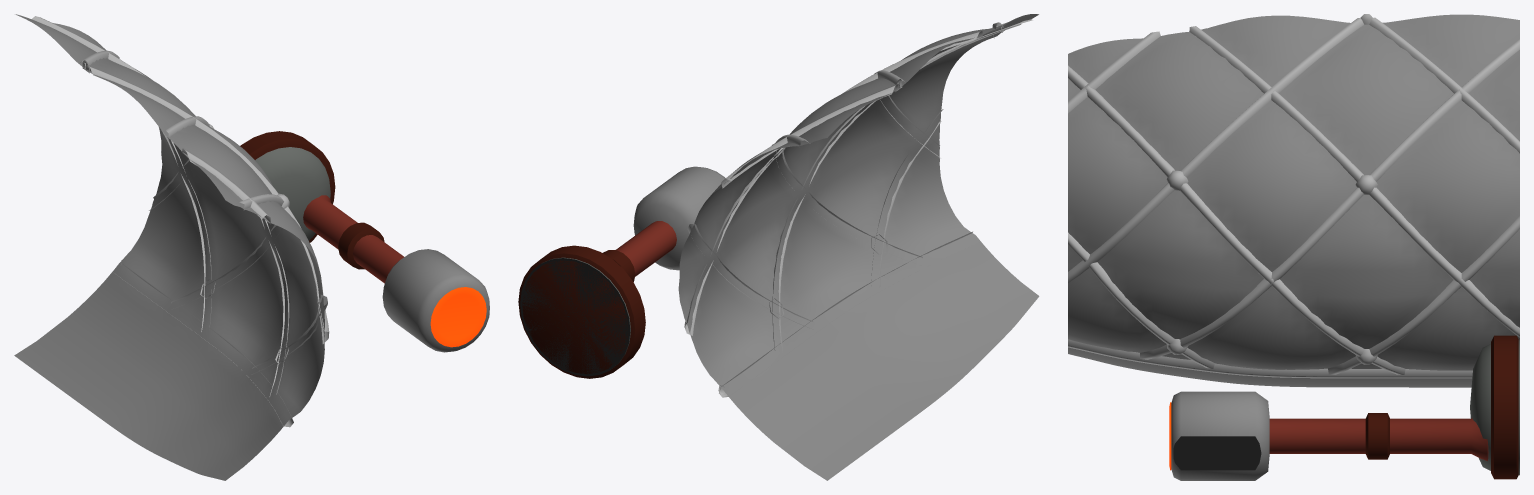
The model's file is zeppelin_121.glb.
3 views of the same model, side by side, from view 1: azimuth 30°, elevation 25°; view 2: azimuth 150°, elevation 25°; view 3: azimuth 270°, elevation 25° (orthographic). The views are drawn at different scales.
Visible parts, largest first — view 1: envelope.001, net_ropes.001, gun_muzzle_r.001, gun_body_r.001, gun_barrel_r.001, gun_fire_ring_r.001, gun_band2_r.001, gun_barrel_ring_r.001; view 2: envelope.001, gun_band2_r.001, gun_body_r.001, net_ropes.001, gun_muzzle_r.001, gun_barrel_r.001; view 3: envelope.001, net_ropes.001, gun_muzzle_r.001, gun_barrel_r.001, gun_band2_r.001, net_load.001, gun_body_r.001, gun_barrel_ring_r.001, net_knots.001.
Part boxes in pixels (<box>): envelope.001: <box>14,14,324,480</box>; net_ropes.001: <box>32,16,329,396</box>; gun_muzzle_r.001: <box>382,249,489,352</box>; gun_body_r.001: <box>255,147,330,240</box>; gun_barrel_r.001: <box>303,195,403,283</box>; gun_fire_ring_r.001: <box>430,287,486,347</box>; gun_band2_r.001: <box>240,131,335,242</box>; gun_barrel_ring_r.001: <box>338,222,384,269</box>; envelope.001: <box>678,14,1039,480</box>; gun_band2_r.001: <box>518,245,645,378</box>; gun_body_r.001: <box>520,257,630,376</box>; net_ropes.001: <box>684,19,1032,395</box>; gun_muzzle_r.001: <box>633,166,725,270</box>; gun_barrel_r.001: <box>616,221,676,276</box>; envelope.001: <box>1068,14,1519,387</box>; net_ropes.001: <box>1068,17,1519,374</box>; gun_muzzle_r.001: <box>1171,391,1269,480</box>; gun_barrel_r.001: <box>1269,418,1488,461</box>; gun_band2_r.001: <box>1491,335,1518,479</box>; net_load.001: <box>1068,339,1472,378</box>; gun_body_r.001: <box>1470,339,1519,475</box>; gun_barrel_ring_r.001: <box>1365,413,1389,459</box>; net_knots.001: <box>1166,14,1377,364</box>.
Size of the model in its own units: 24 by 25.39 by 28.
